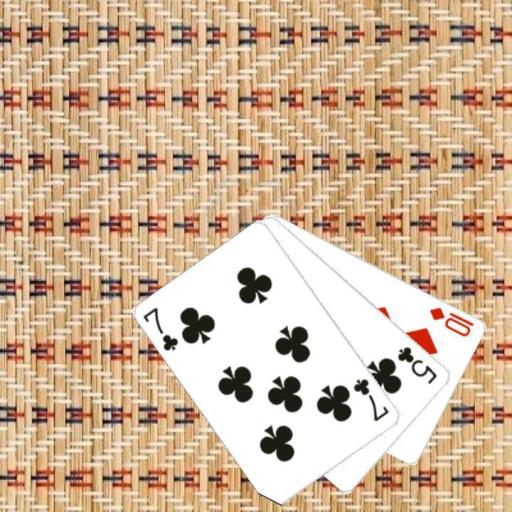10D: (427, 304, 476, 339)
5C: (394, 343, 439, 385)
7C: (140, 304, 181, 353), (351, 375, 391, 423)
